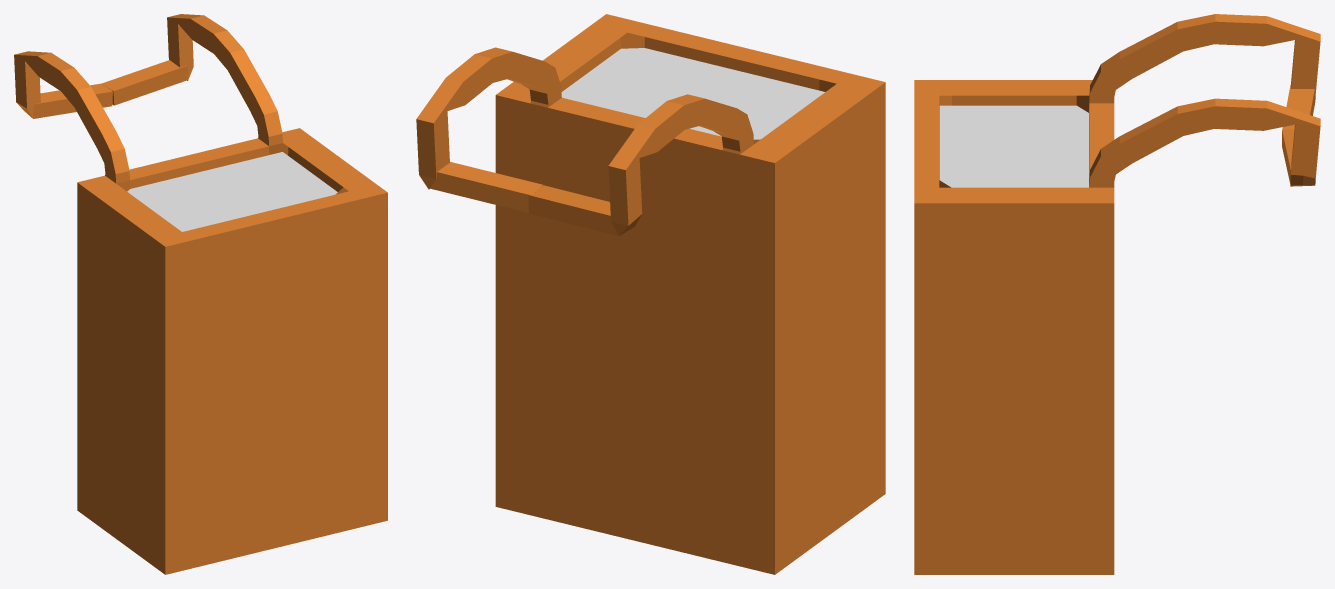
The model's file is Bag.fbx.
3 views of the same model, side by side, from view 1: azimuth 30°, elevation 25°; view 2: azimuth 150°, elevation 25°; view 3: azimuth 270°, elevation 25° (orthographic). The views are drawn at different scales.
Parts seen in each view (by area): view 1: Cube, Plane; view 2: Cube, Plane; view 3: Cube, Plane.
Part boxes in pixels (x1,y1,x2,y2): Cube: (14,14,387,574); Plane: (127,152,337,231); Cube: (416,14,885,574); Plane: (561,48,824,139); Cube: (914,14,1320,574); Plane: (939,105,1088,187).
Size of the model in its own units: 153 by 263 by 214.
